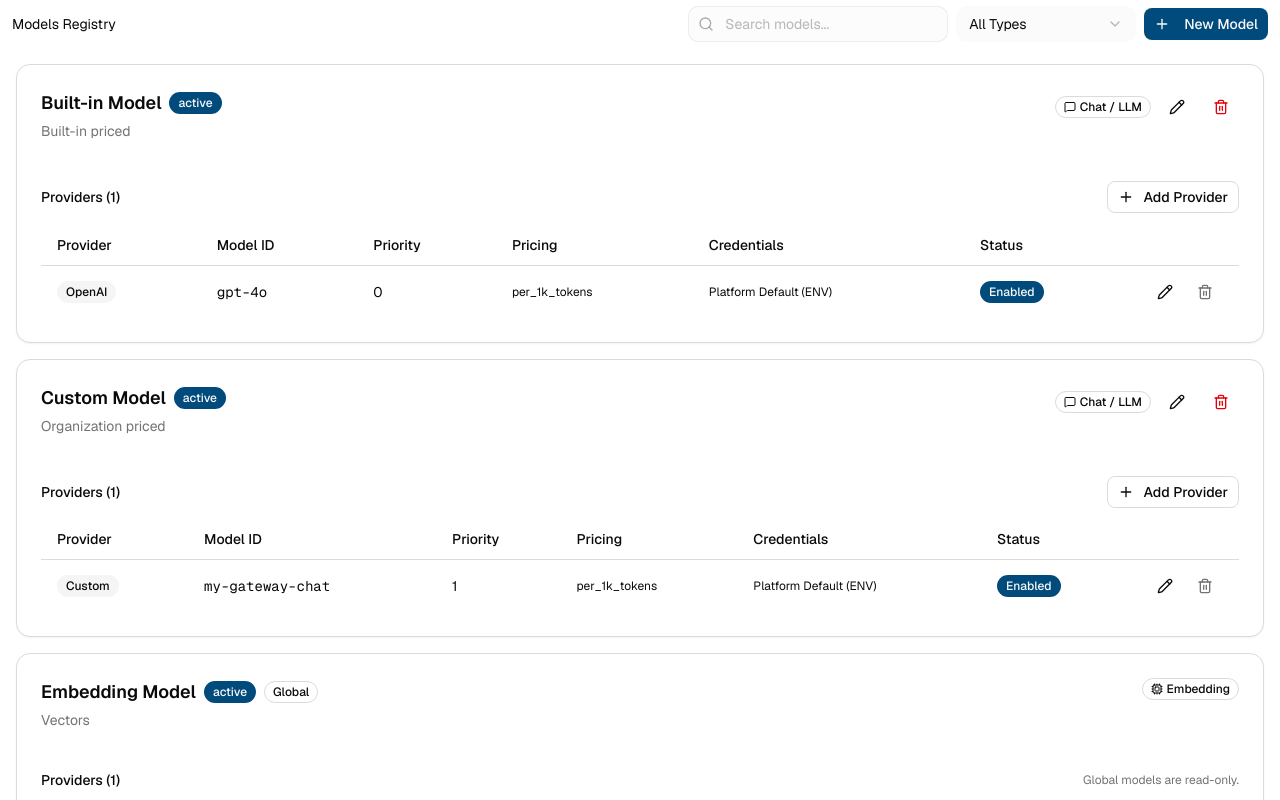
Models Registry › shows platform-managed pricing note for built-in providers
What coordinates should you click on to do the following:
click the button with test id "edit-provider-provider-1"
I would click on:
 (1165, 292)
Its box is [1147,274,1183,310].
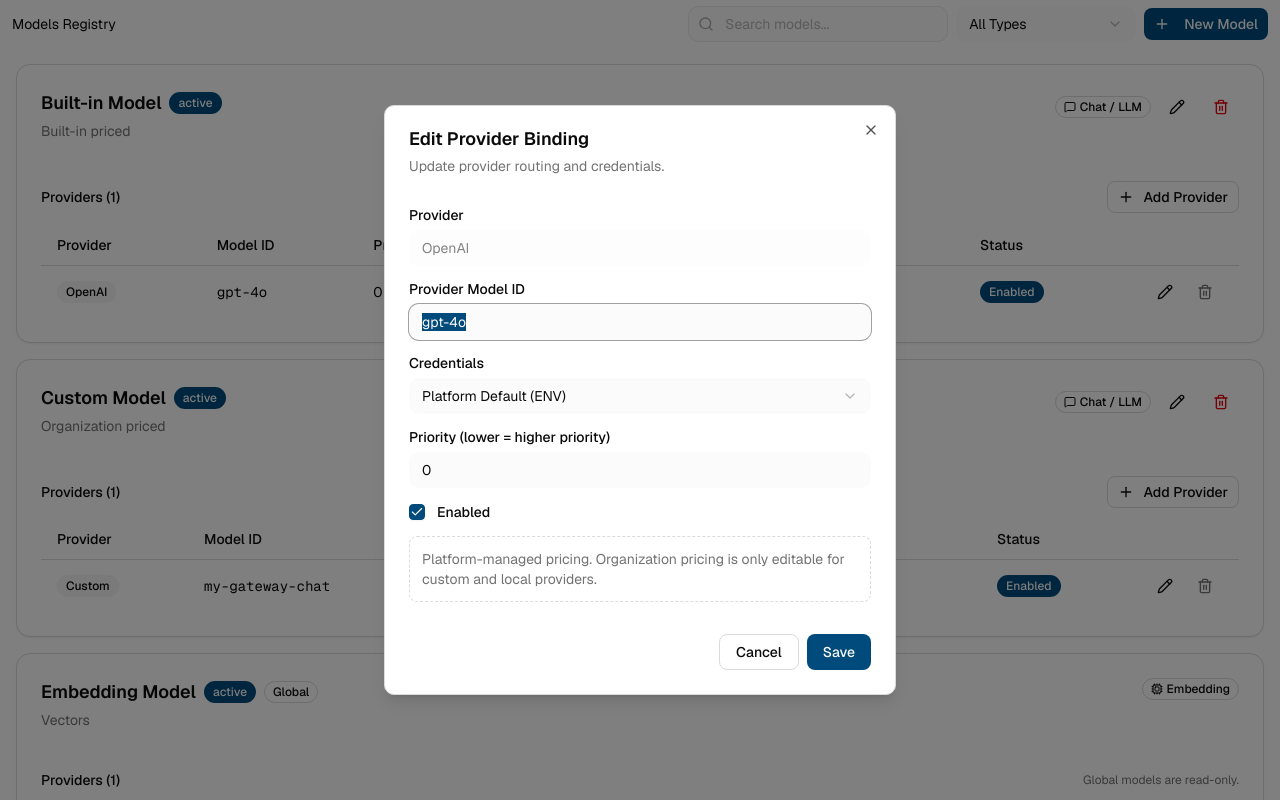
Result: the text "Platform-managed pricing" is shown at [422,550,845,588]
